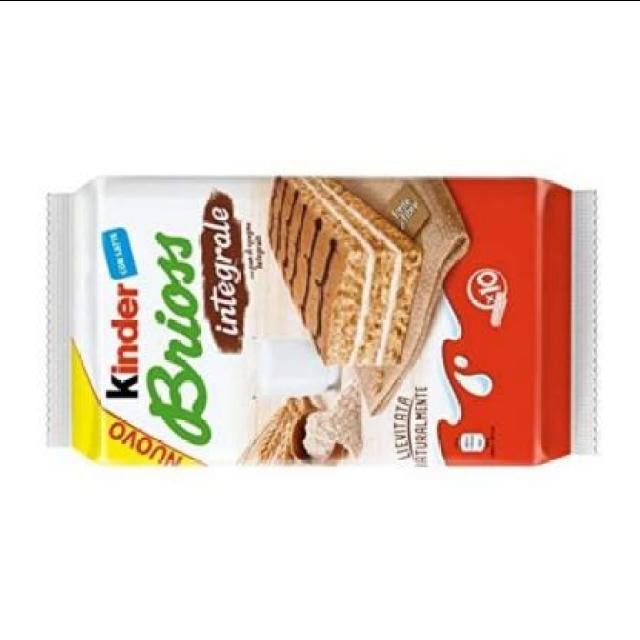Merendine: (62, 168, 598, 474)
